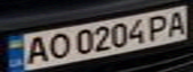0: (72, 27, 96, 56), (109, 20, 130, 48)
2: (90, 22, 115, 52)
4: (127, 16, 151, 44)
A: (18, 34, 51, 65), (163, 8, 190, 37)
O: (42, 30, 72, 61)
P: (142, 12, 175, 42)
